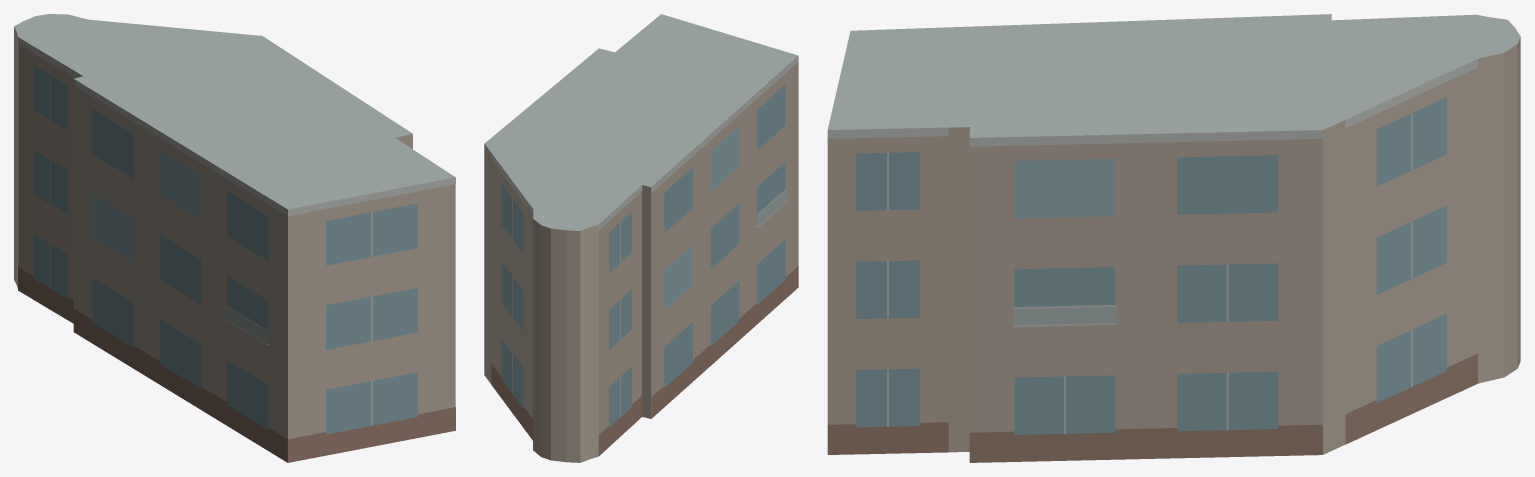
The model's file is survey-upis-32946531.glb.
3 views of the same model, side by side, from view 1: azimuth 30°, elevation 25°; view 2: azimuth 150°, elevation 25°; view 3: azimuth 270°, elevation 25° (orthographic). The views are drawn at different scales.
Visible parts, largest first — view 1: survey-upis-32946531.tmp; view 2: survey-upis-32946531.tmp; view 3: survey-upis-32946531.tmp.
Boxes of the visible parts, x1,y1,x2,y2 form: survey-upis-32946531.tmp: [14, 14, 455, 462]; survey-upis-32946531.tmp: [484, 14, 798, 462]; survey-upis-32946531.tmp: [827, 14, 1520, 462].
Size of the model in its own units: 7.46 by 9.1 by 17.6.
